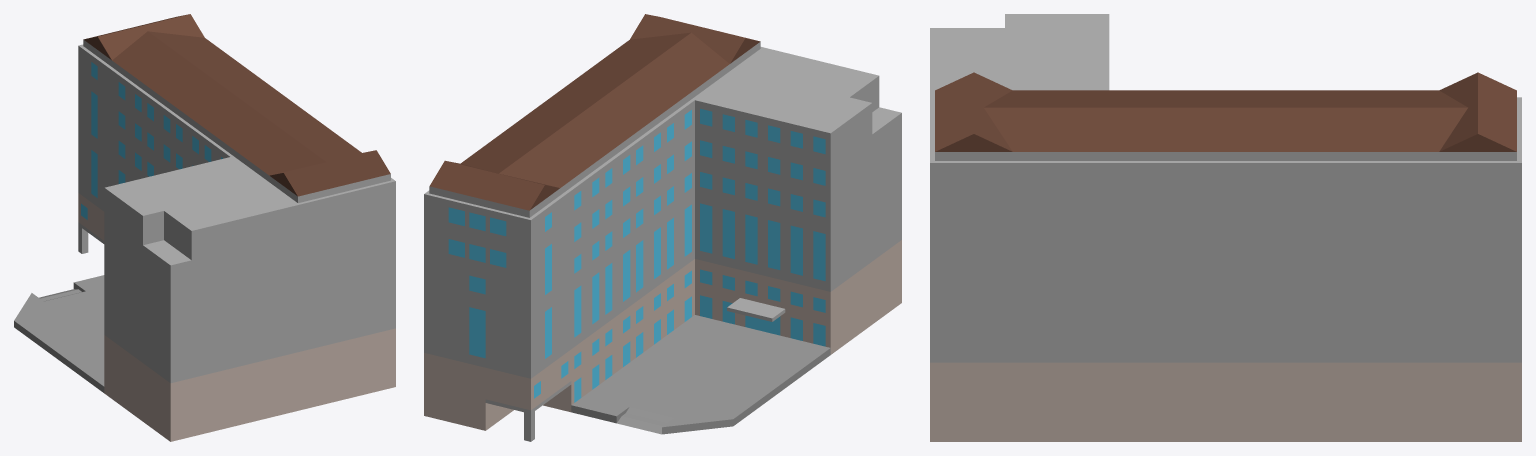
Rendered from HanUl.glb.
3 renders of one model, left to right at view 1: azimuth 30°, elevation 25°; view 2: azimuth 150°, elevation 25°; view 3: azimuth 270°, elevation 25°, orthographic. The views are drawn at different scales.
Visible parts, largest first — view 1: Main, Roof, Main Red, Floor, Window; view 2: Main, Roof, Main Red, Window, Floor; view 3: Main, Main Red, Roof.
Part boxes in pixels (bbox=[...]): Main: bbox=[78, 40, 395, 383]; Roof: bbox=[83, 14, 390, 196]; Main Red: bbox=[78, 193, 395, 441]; Floor: bbox=[14, 275, 104, 392]; Window: bbox=[81, 62, 222, 219]; Main: bbox=[424, 42, 901, 441]; Roof: bbox=[430, 14, 760, 210]; Main Red: bbox=[424, 240, 901, 430]; Window: bbox=[448, 108, 825, 402]; Floor: bbox=[571, 315, 830, 434]; Main: bbox=[930, 14, 1521, 362]; Main Red: bbox=[930, 362, 1521, 441]; Roof: bbox=[935, 72, 1516, 151].
Bounding box in the file's own units: 35.4 × 33.9 × 59.4.
